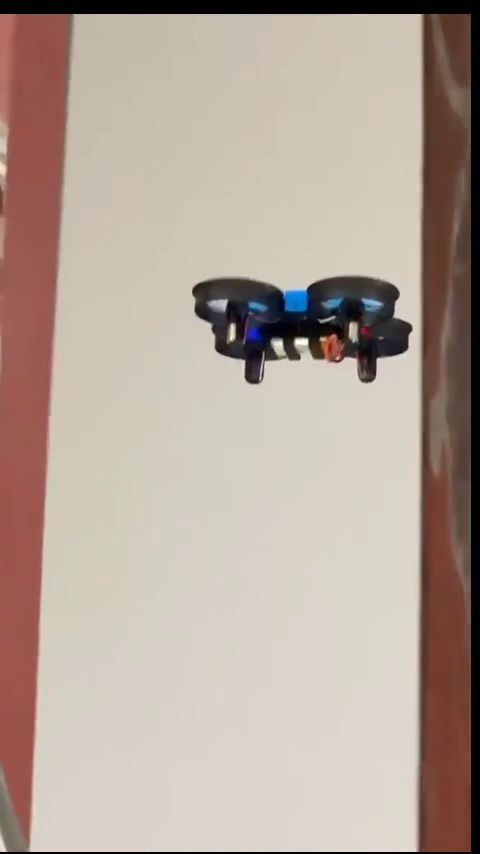drone: (192, 280, 414, 383)
